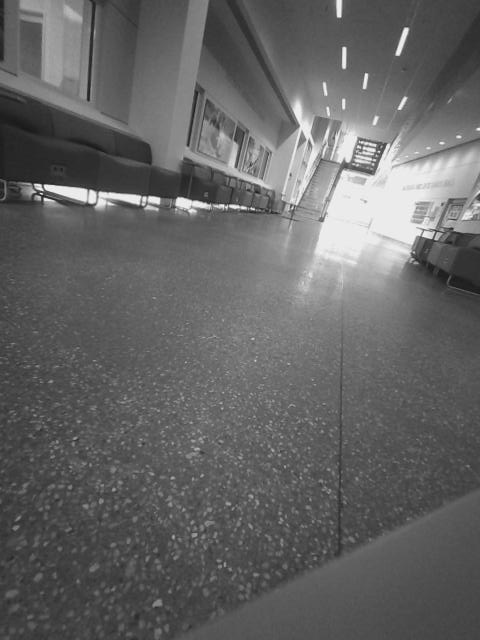ball: (376, 336, 471, 422)
